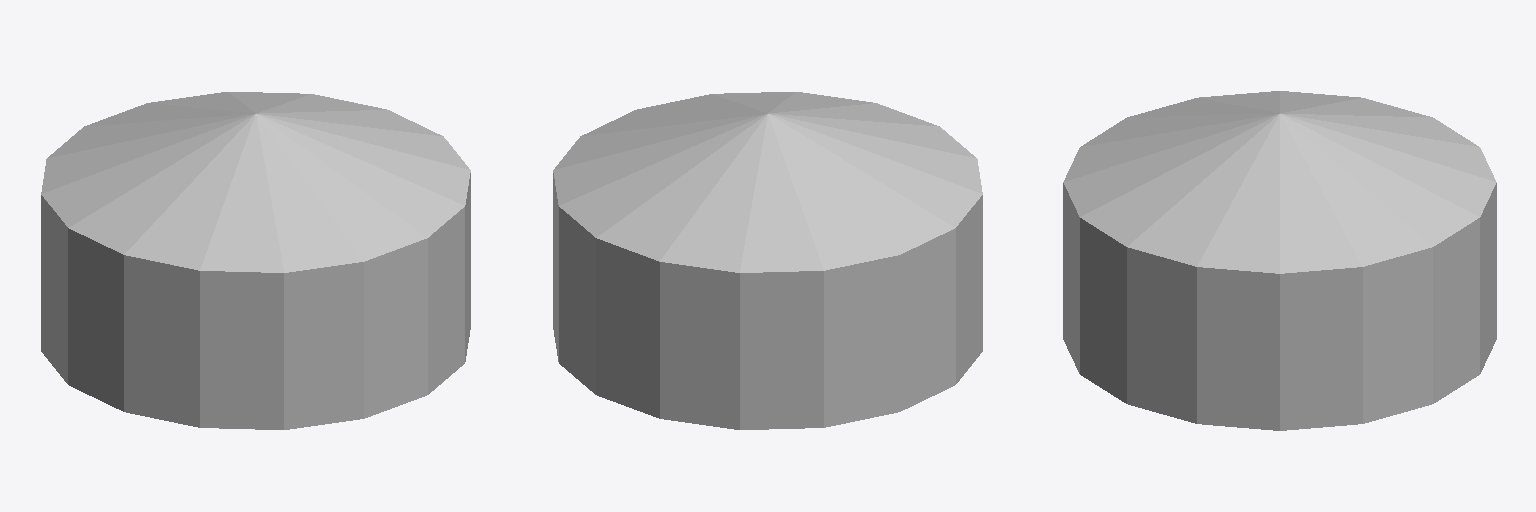
File: Wii_Coconut_Mall.obj
3 renders of one model, left to right at view 1: azimuth 30°, elevation 25°; view 2: azimuth 150°, elevation 25°; view 3: azimuth 270°, elevation 25°, orthographic.
Visible parts, largest first — view 1: CM-COM-skp8656-65490-auto18; view 2: CM-COM-skp8656-65490-auto18; view 3: CM-COM-skp8656-65490-auto18.
Part boxes in pixels (x1,y1,x2,y2): CM-COM-skp8656-65490-auto18: (41, 92, 470, 429); CM-COM-skp8656-65490-auto18: (553, 92, 982, 429); CM-COM-skp8656-65490-auto18: (1063, 91, 1496, 430).
Bounding box in the file's own units: 20000 × 14500 × 20000.